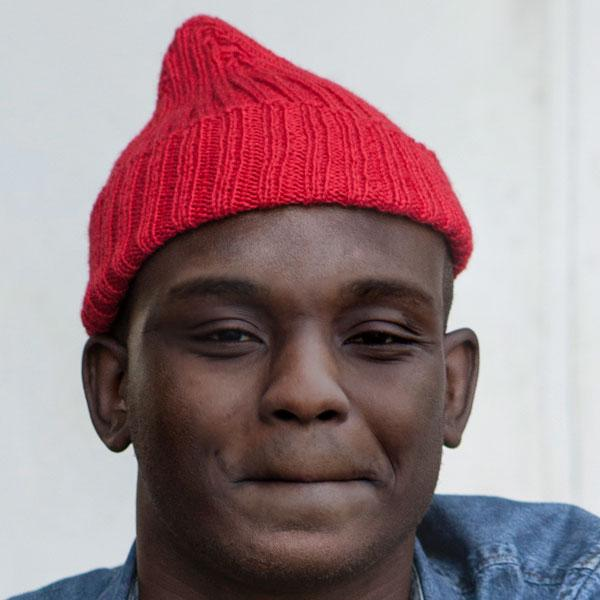Eyes: (328, 308, 429, 369), (175, 308, 272, 362)
